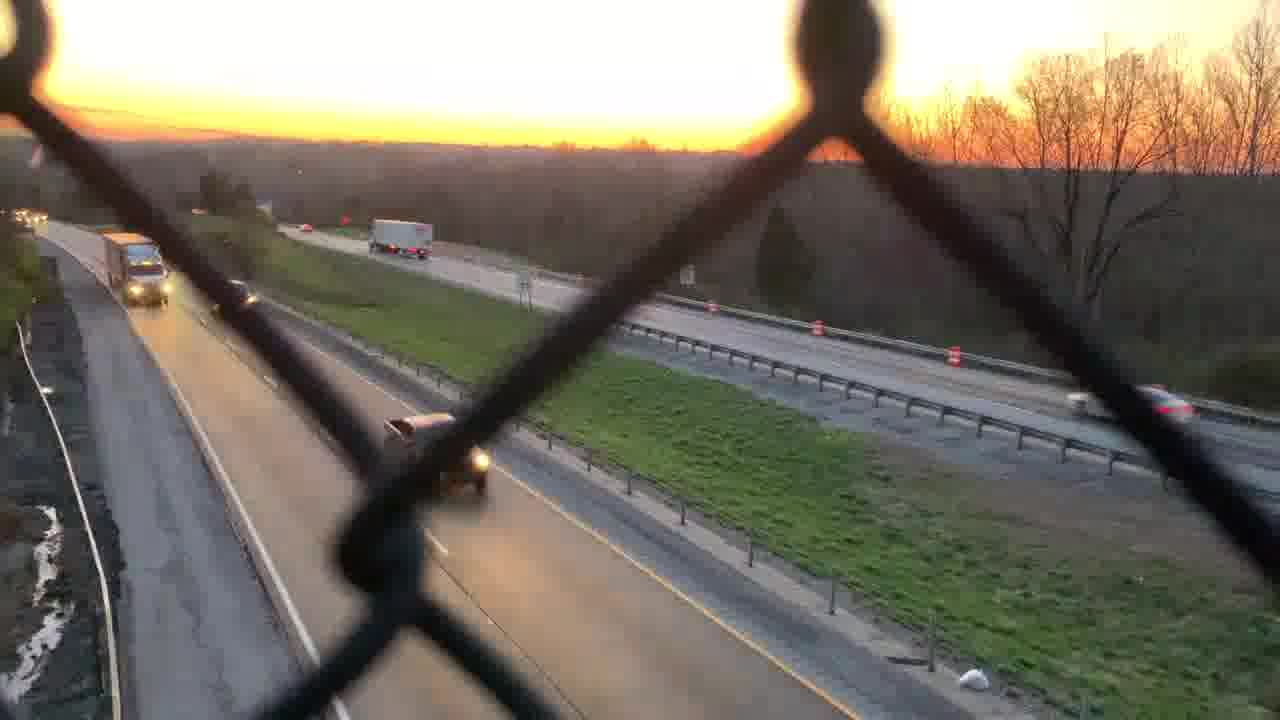heavyTruck: (99, 228, 172, 307), (365, 215, 436, 261)
